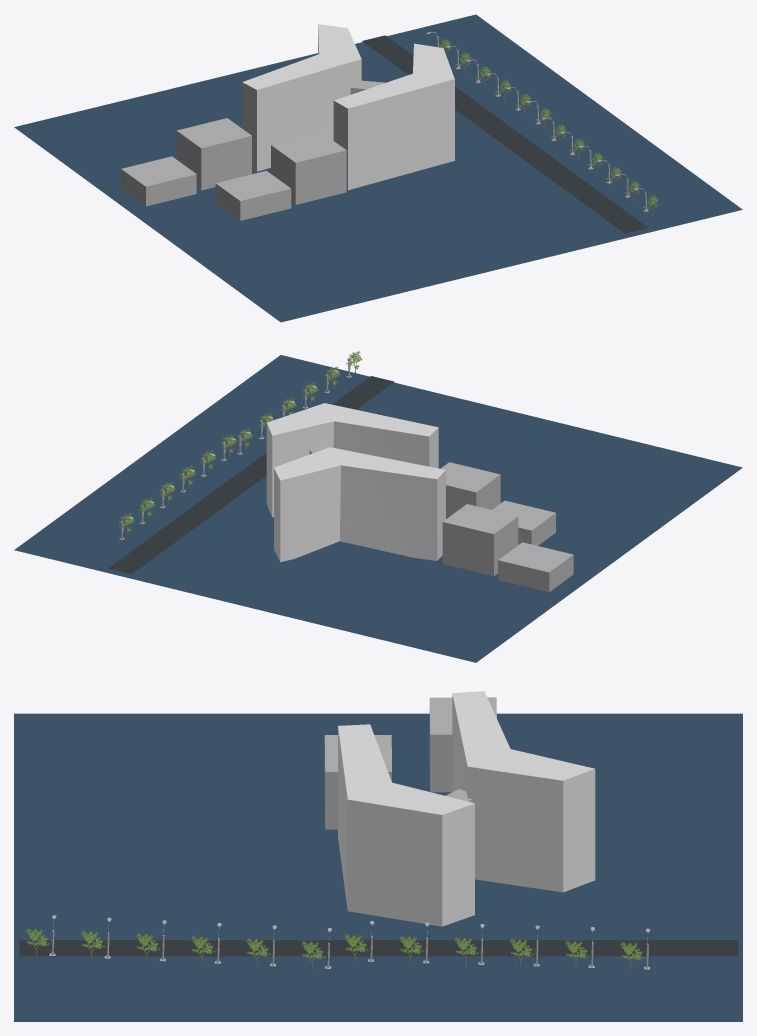
3 views of the same model, one above another, from view 1: azimuth 30°, elevation 25°; view 2: azimuth 150°, elevation 25°; view 3: azimuth 270°, elevation 25° (orthographic). The views are drawn at different scales.
Parts seen in each view (by area): view 1: 路面, 大楼1, 大楼1.001, 道路, 大楼-柱子.001, 大楼-柱子.003, 大楼-柱子.002, 大楼-柱子.004, 大楼-景观1.001, 大楼-景观2; view 2: 路面, 大楼1.001, 大楼1, 道路, 大楼-柱子.003, 大楼-柱子.004, 大楼-柱子.001, 大楼-柱子.002, 大楼-景观2, 大楼-景观1.001; view 3: 路面, 大楼1, 大楼1.001, 道路, 大楼-景观2, 大楼-景观1.001, 大楼-柱子.003, 大楼-柱子.001.
Part boxes in pixels (x1,y1,x2,y2): 路面: (14,14,742,322); 大楼1: (333,43,454,190); 大楼1.001: (242,24,361,171); 道路: (362,35,647,233); 大楼-柱子.001: (271,132,346,204); 大楼-柱子.003: (176,118,251,190); 大楼-柱子.002: (215,170,291,220); 大楼-柱子.004: (121,156,196,206); 大楼-景观1.001: (541,117,659,215); 大楼-景观2: (426,32,551,128); 路面: (14,355,742,662); 大楼1.001: (274,447,445,562); 大楼1: (266,403,438,517); 道路: (108,376,394,574); 大楼-柱子.003: (442,504,518,576); 大楼-柱子.004: (498,542,573,592); 大楼-柱子.001: (440,462,500,518); 大楼-柱子.002: (492,500,555,545); 大楼-景观2: (118,434,236,539); 大楼-景观1.001: (236,351,362,454); 路面: (14,713,742,1021); 大楼1: (338,724,474,926); 大楼1.001: (452,691,595,892); 道路: (19,940,738,956); 大楼-景观2: (344,921,649,969); 大楼-景观1.001: (26,915,331,968); 大楼-柱子.003: (429,700,496,792); 大楼-柱子.001: (324,738,391,829).
Size of the model in its own units: 100 by 17.33 by 100.
Materials: 19 (2 with a texture image).
